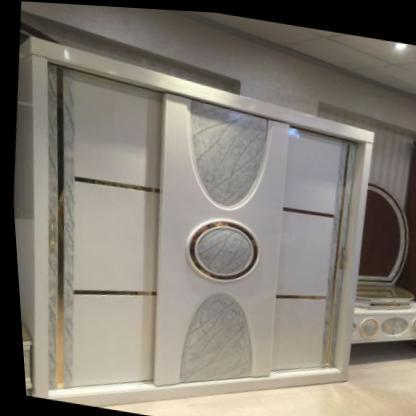Ceramic floor: (96, 338, 416, 416)
Closet: (24, 40, 372, 407)
